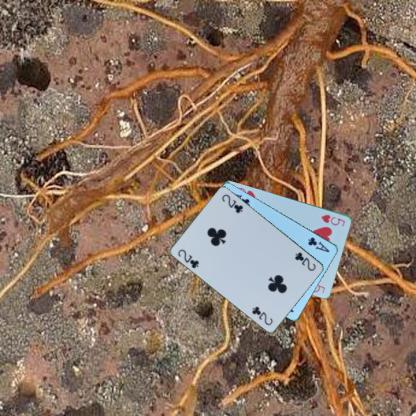2c: (176, 247, 200, 270), (292, 250, 317, 272)
5h: (319, 211, 346, 228)
Ac: (306, 235, 331, 254)
